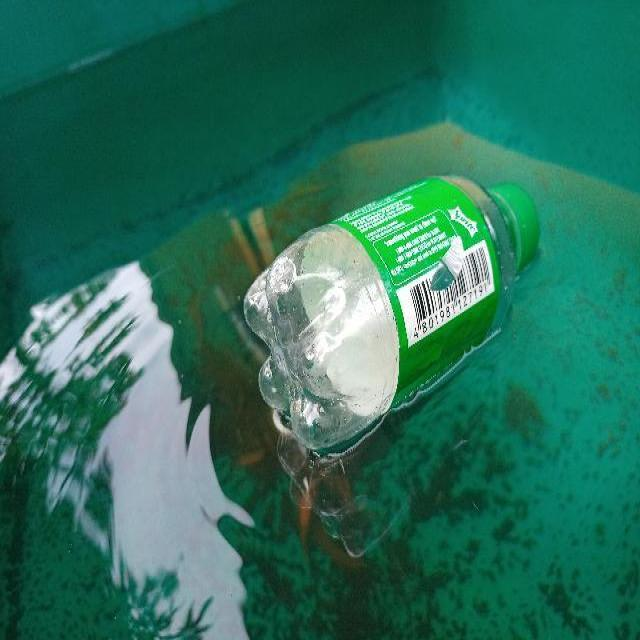Bottle: (236, 162, 554, 462)
